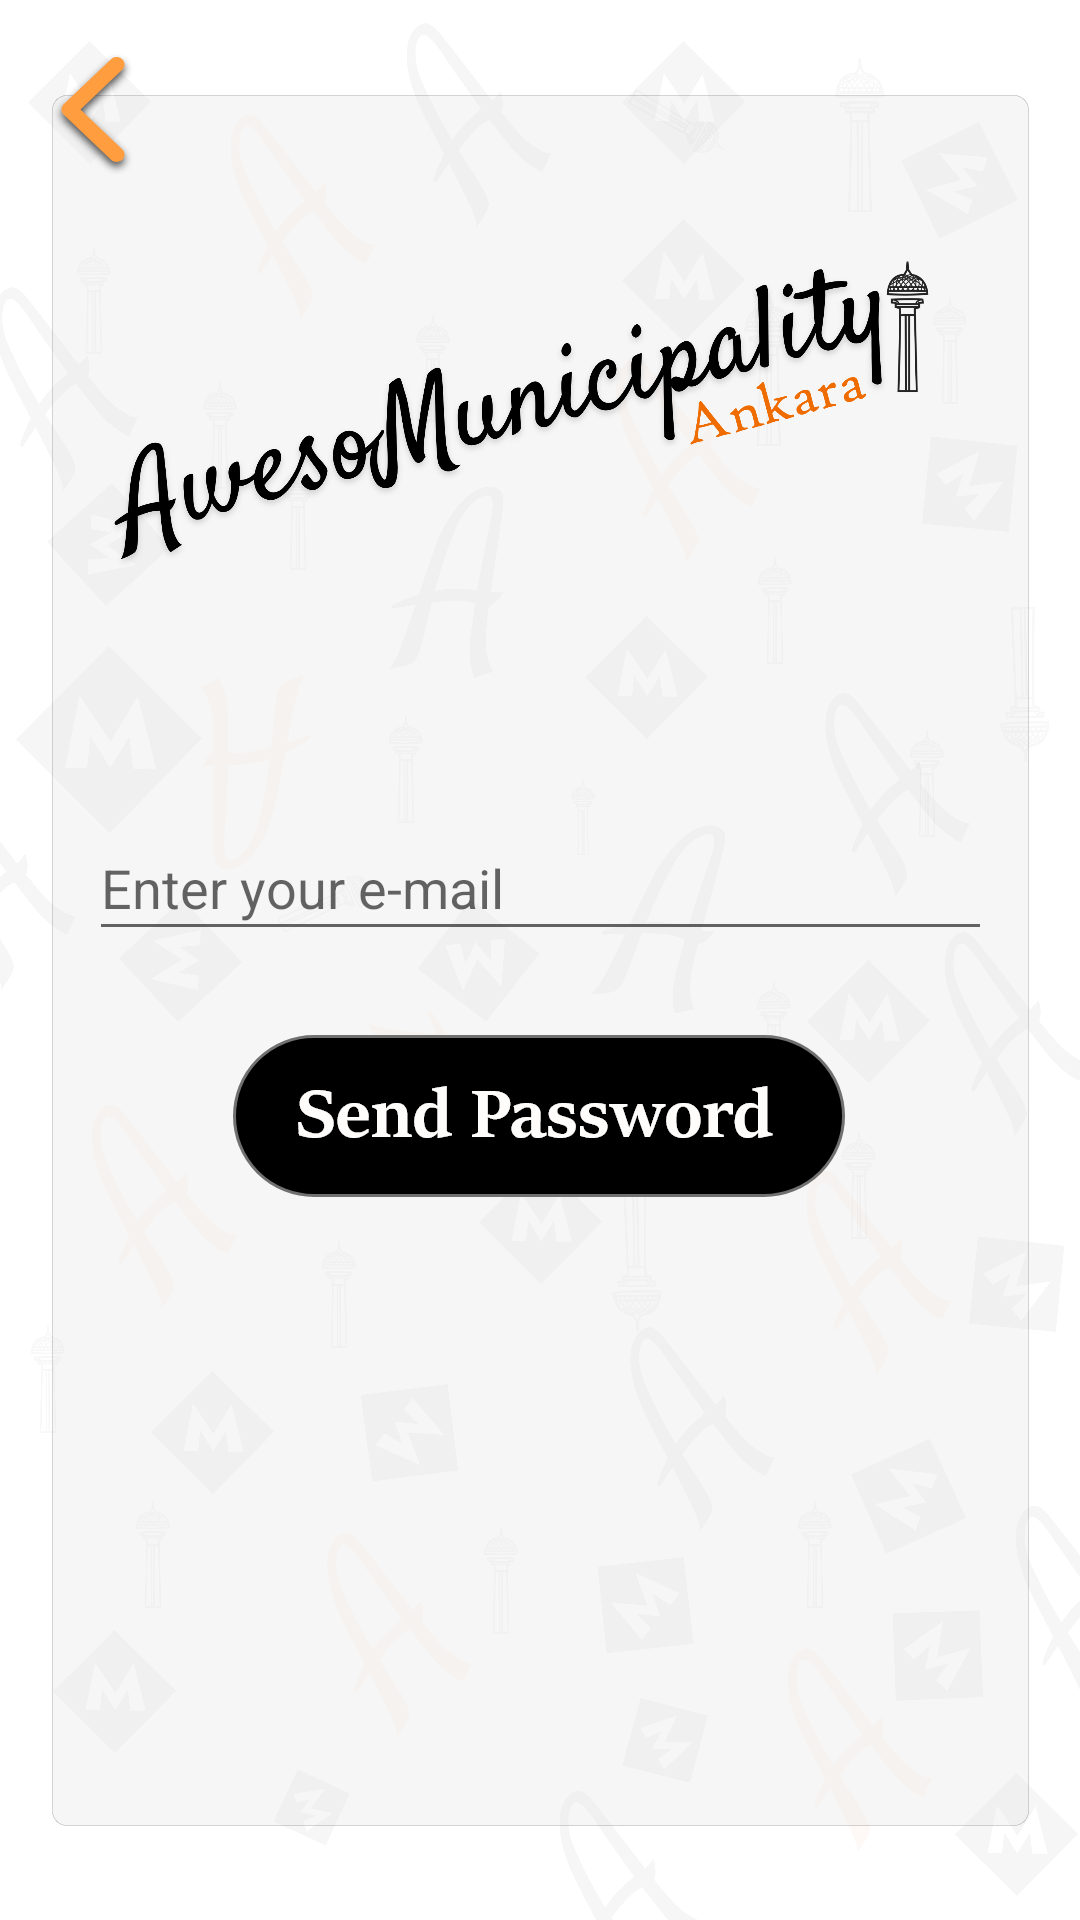

Screen size 1080px x 1920px. Icon name, then its center in pixels as (x,y):
back: (93,114)
